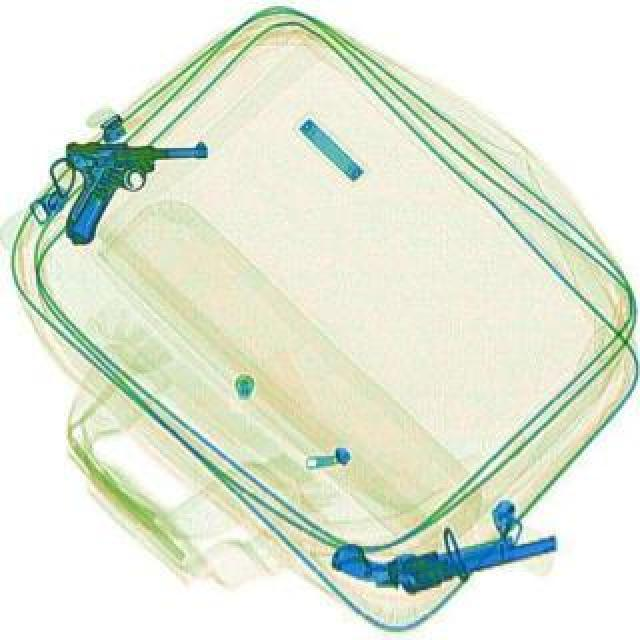gun: (326, 500, 558, 612), (64, 144, 208, 248)
